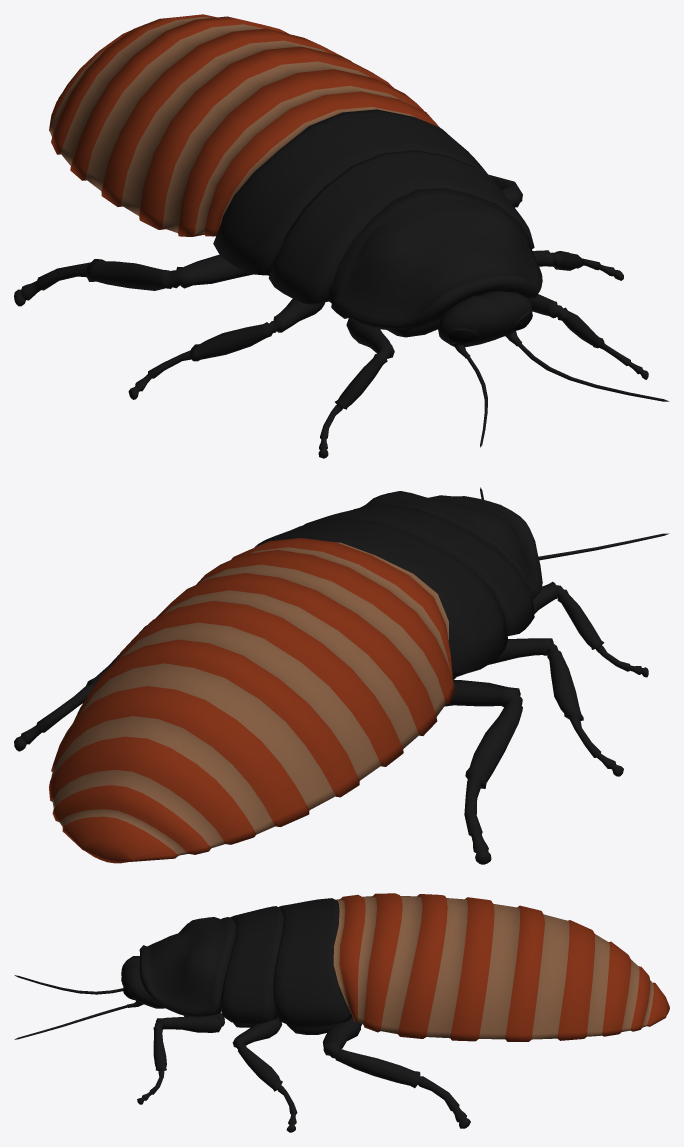
The model's file is cockroach.obj.
3 renders of one model, top to bottom at view 1: azimuth 30°, elevation 25°; view 2: azimuth 150°, elevation 25°; view 3: azimuth 270°, elevation 25°, orthographic. The views are drawn at different scales.
Visible parts, largest first — view 1: cockroach; view 2: cockroach; view 3: cockroach.
Part boxes in pixels (x1,y1,x2,y2): cockroach: [14, 14, 669, 458]; cockroach: [14, 487, 669, 864]; cockroach: [14, 893, 669, 1132].
Size of the model in its own units: 0.0513 by 0.0209 by 0.085.
